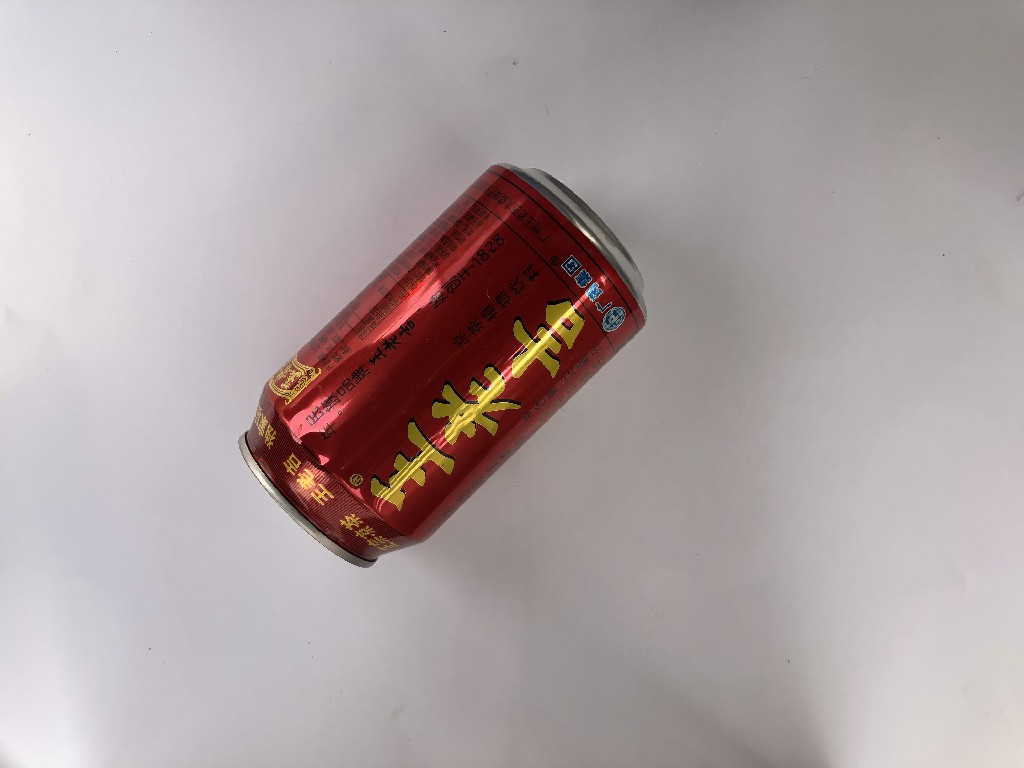can: (231, 156, 653, 578)
